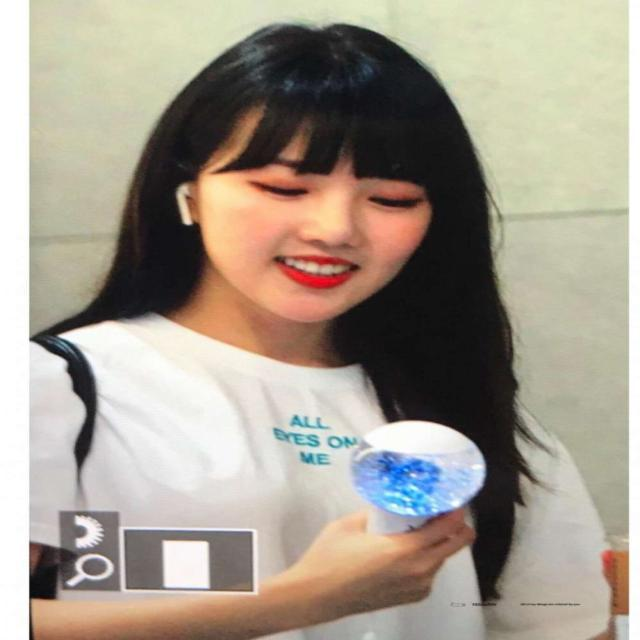earphone: (170, 158, 215, 264)
